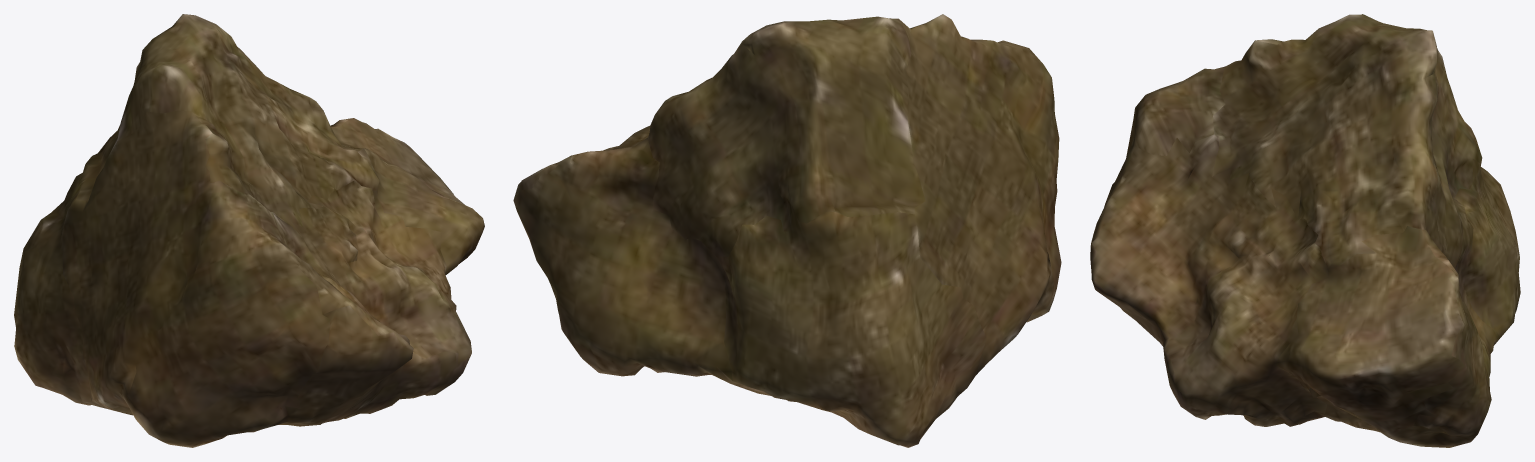
Rendered from boulder_3.glb.
3 renders of one model, left to right at view 1: azimuth 30°, elevation 25°; view 2: azimuth 150°, elevation 25°; view 3: azimuth 270°, elevation 25°, orthographic. The views are drawn at different scales.
Bounding box in the file's own units: 2.13 × 1.77 × 1.96.
1 material, 1 textured.
